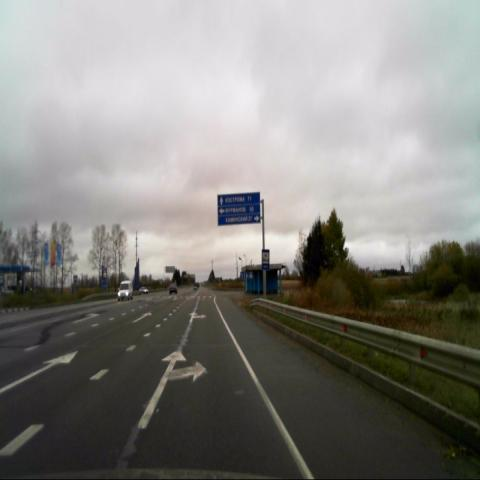7_2: (261, 249, 270, 269)
